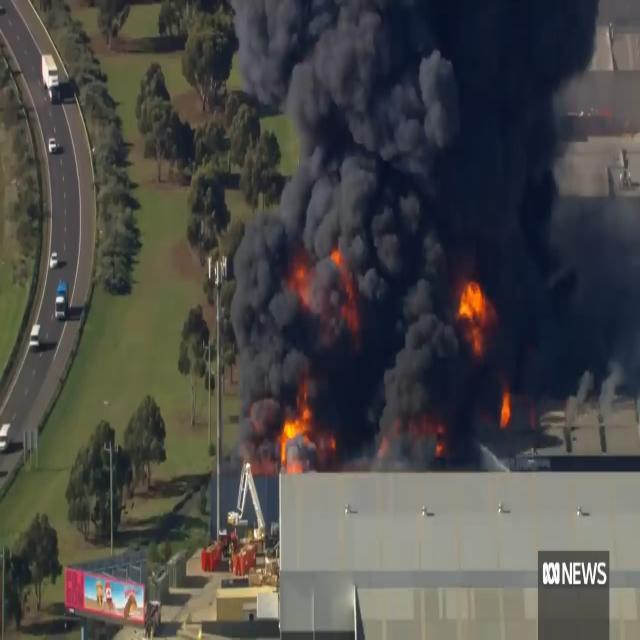fire: (458, 278, 492, 353), (334, 248, 362, 332), (280, 416, 318, 460), (498, 388, 512, 425)
